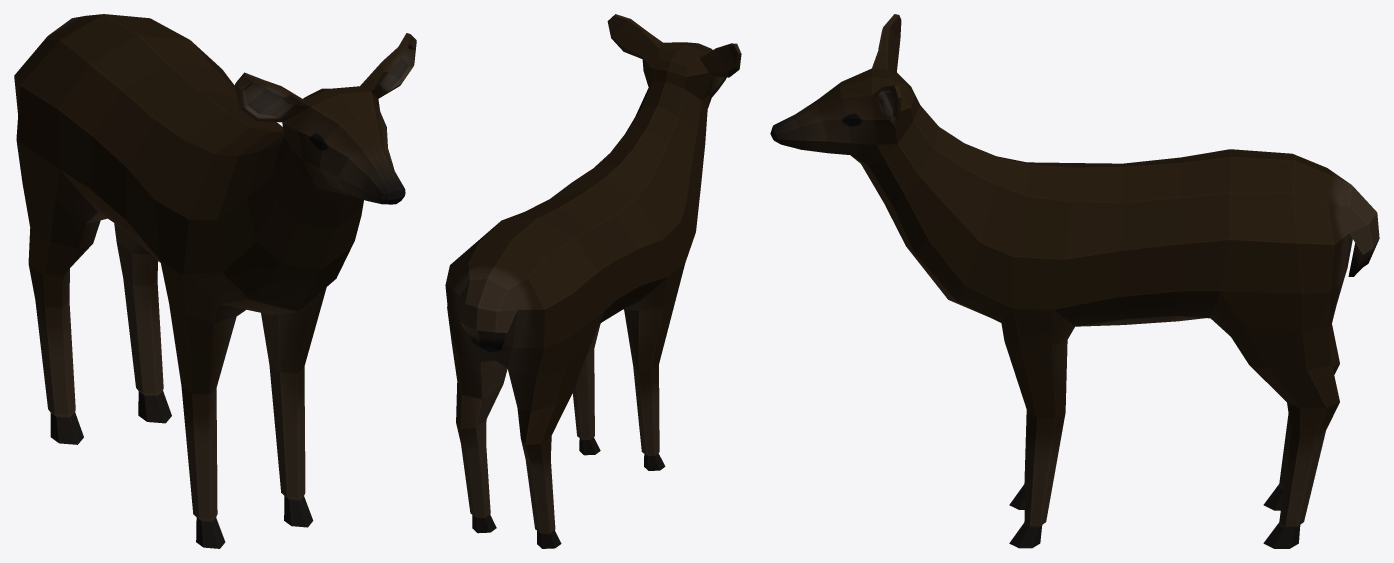
The model's file is SambarDoe.glb.
3 views of the same model, side by side, from view 1: azimuth 30°, elevation 25°; view 2: azimuth 150°, elevation 25°; view 3: azimuth 270°, elevation 25° (orthographic). The views are drawn at different scales.
Parts seen in each view (by area): view 1: node-0; view 2: node-0; view 3: node-0.
Part boxes in pixels (x1,y1,x2,y2): node-0: [14, 14, 416, 548]; node-0: [445, 14, 741, 548]; node-0: [770, 14, 1379, 548].
Size of the model in its own units: 5.69 by 15.84 by 18.44.
Materials: 1 (1 with a texture image).
